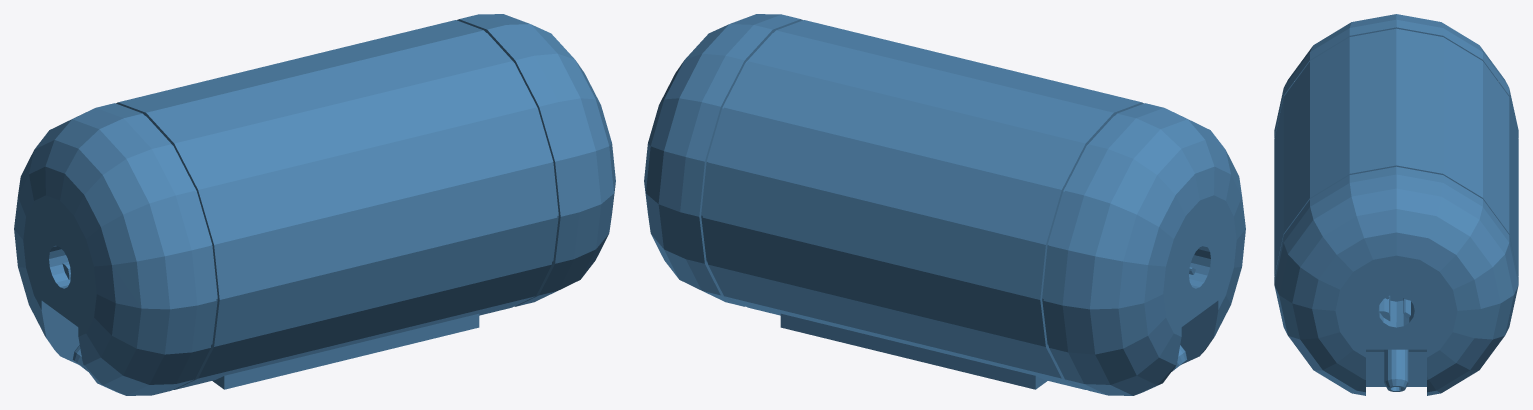
3 renders of one model, left to right at view 1: azimuth 30°, elevation 25°; view 2: azimuth 150°, elevation 25°; view 3: azimuth 270°, elevation 25°, orthographic. The views are drawn at different scales.
Visible parts, largest first — view 1: world; view 2: world; view 3: world.
Part boxes in pixels (left/top/right/bottom): world: left=14, top=14, right=615, bottom=395; world: left=644, top=14, right=1245, bottom=395; world: left=1274, top=14, right=1518, bottom=395.
Bounding box in the file's own units: 0.064 × 0.0315 × 0.032.
